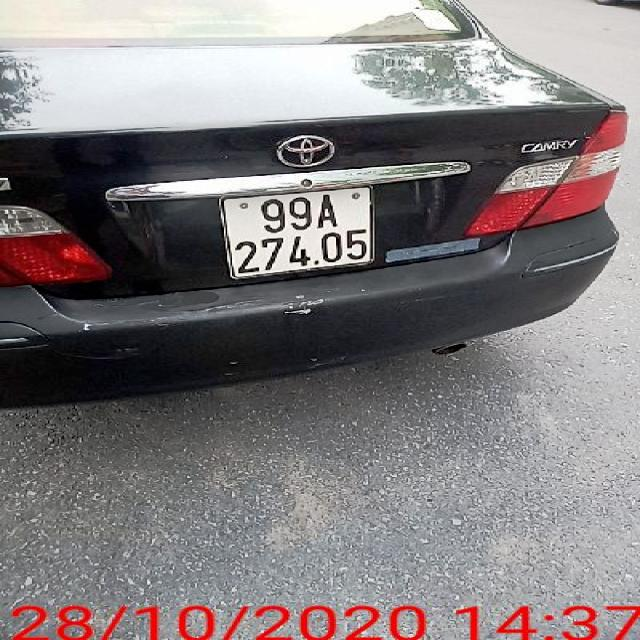license_plate: (223, 184, 379, 279)
